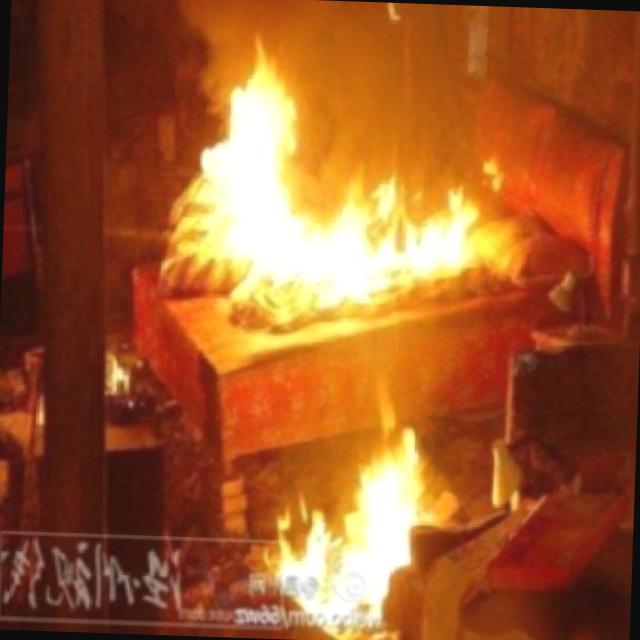fire: (142, 29, 530, 358), (272, 370, 483, 640)
